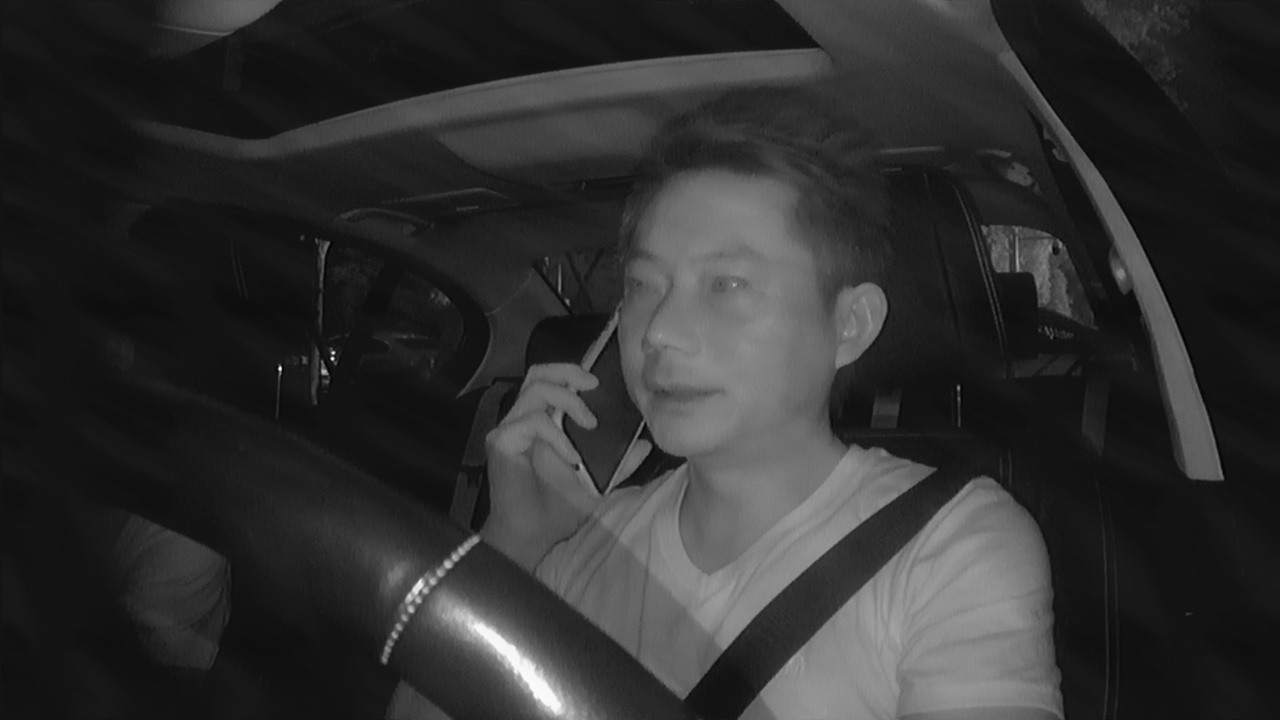hand: (482, 358, 648, 549)
